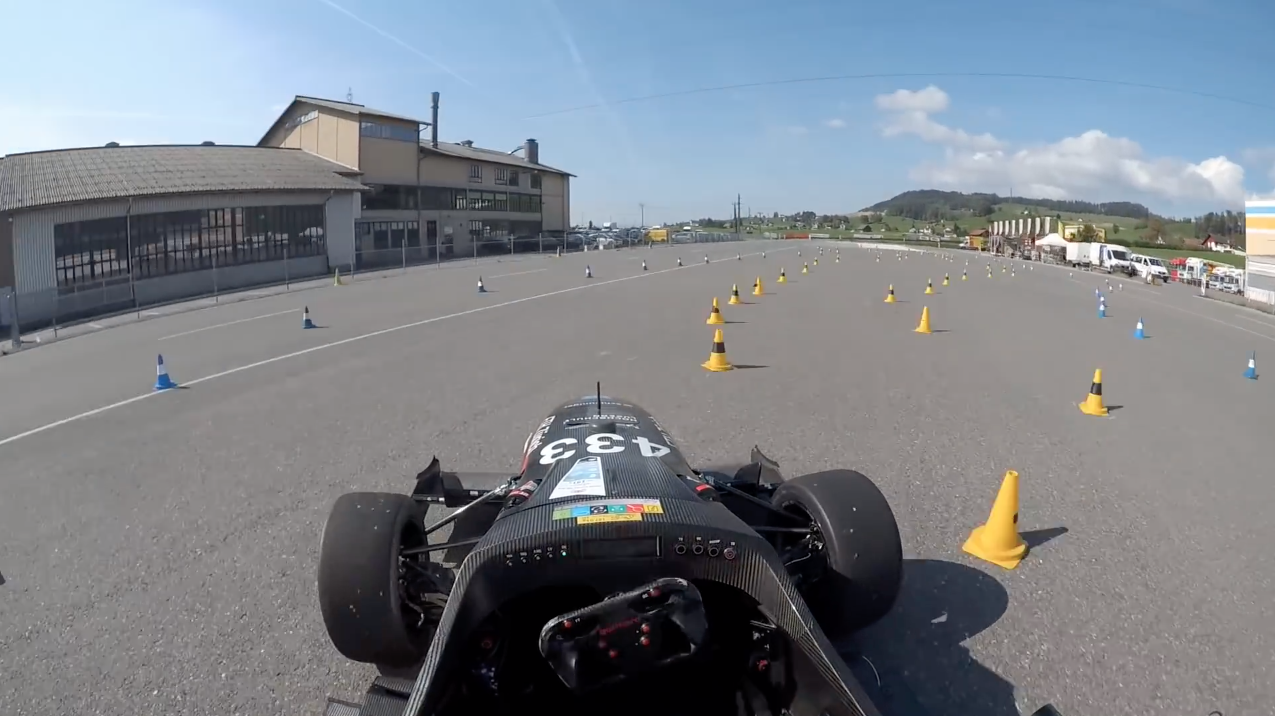lcone: (148, 351, 182, 396), (296, 301, 321, 335)
rcone: (954, 463, 1046, 572), (1072, 363, 1121, 421), (698, 324, 740, 376), (701, 292, 729, 329), (908, 304, 936, 340)
